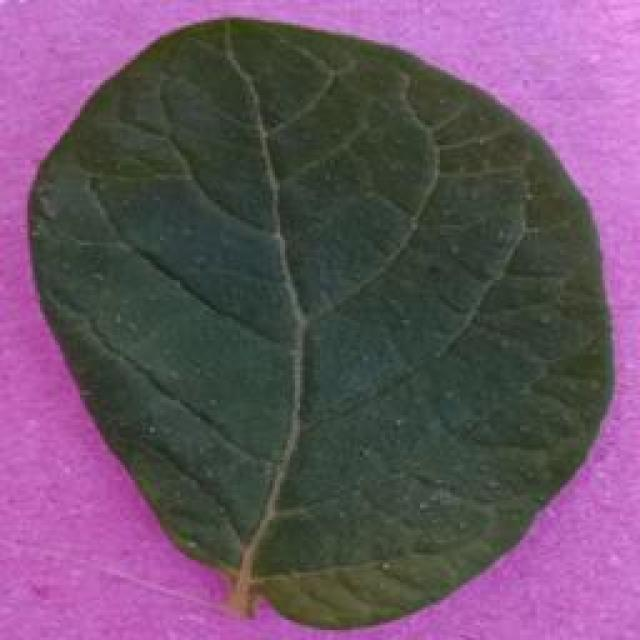Potato_Healthy: (24, 14, 604, 624)
